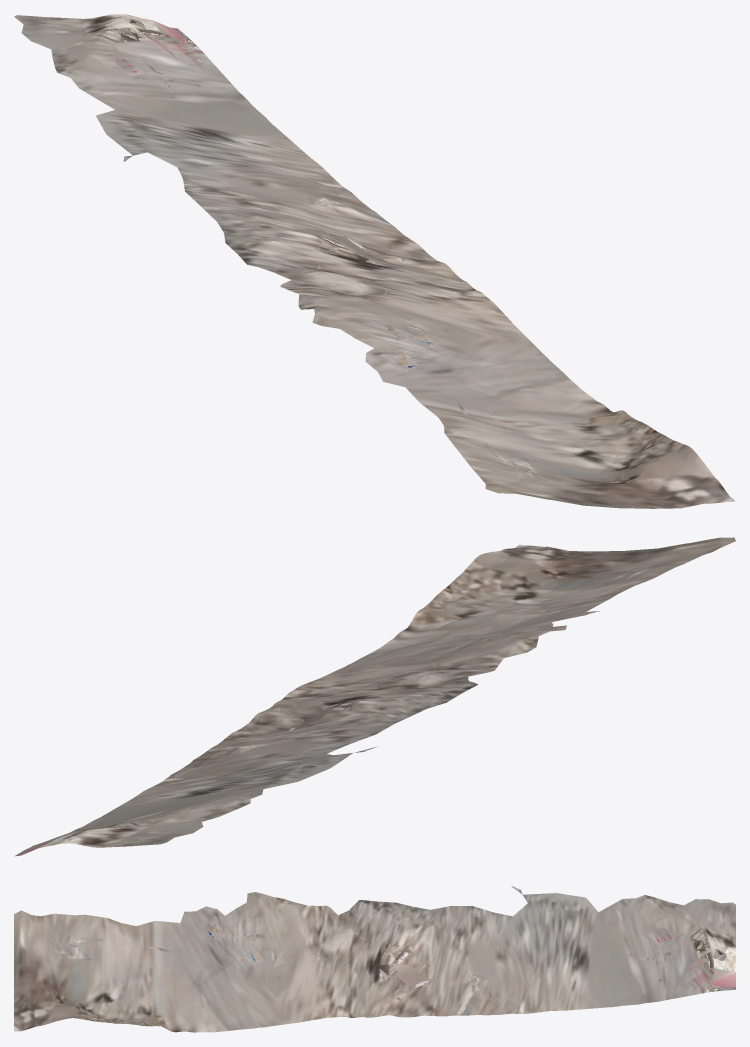
3 views of the same model, one above another, from view 1: azimuth 30°, elevation 25°; view 2: azimuth 150°, elevation 25°; view 3: azimuth 270°, elevation 25° (orthographic). The views are drawn at different scales.
Size of the model in its own units: 0.6395 by 0.3002 by 2.53.
1 material, 1 textured.
